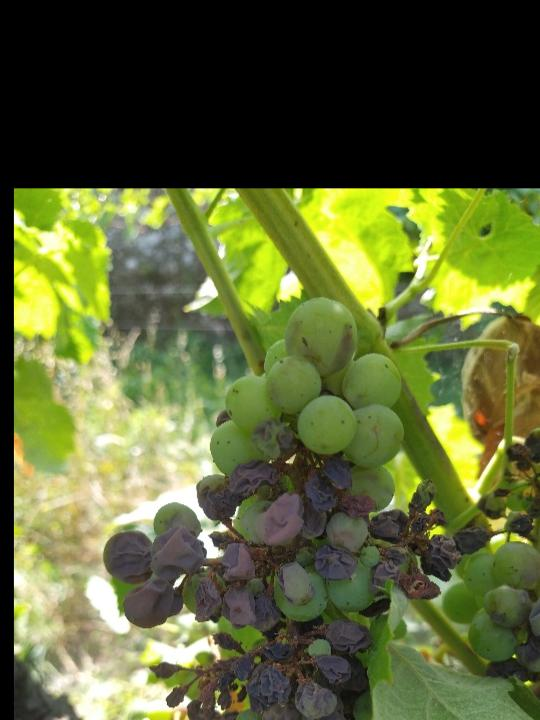grape: (99, 294, 461, 720)
